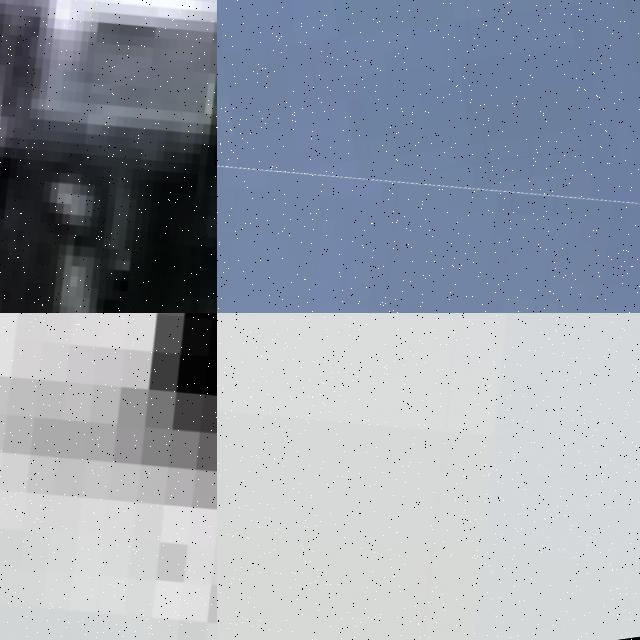drone: (217, 313, 640, 640), (217, 101, 640, 313), (0, 313, 217, 640), (0, 0, 217, 313)
